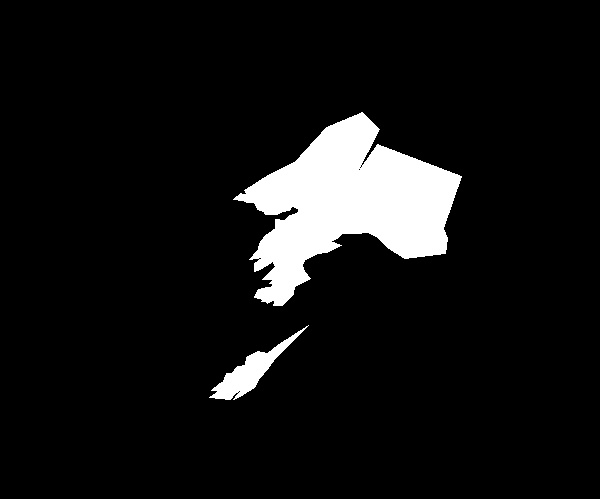Fire: (251, 219, 314, 304), (238, 183, 288, 215), (209, 375, 243, 400)
